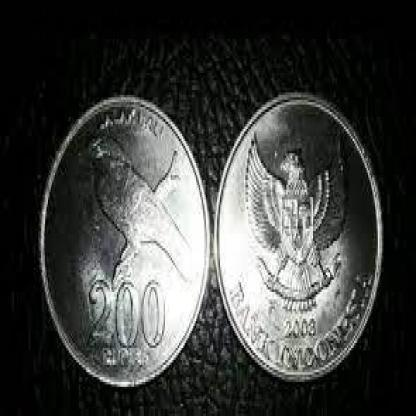coin_200_e2003: (209, 88, 385, 386), (37, 94, 212, 389)
